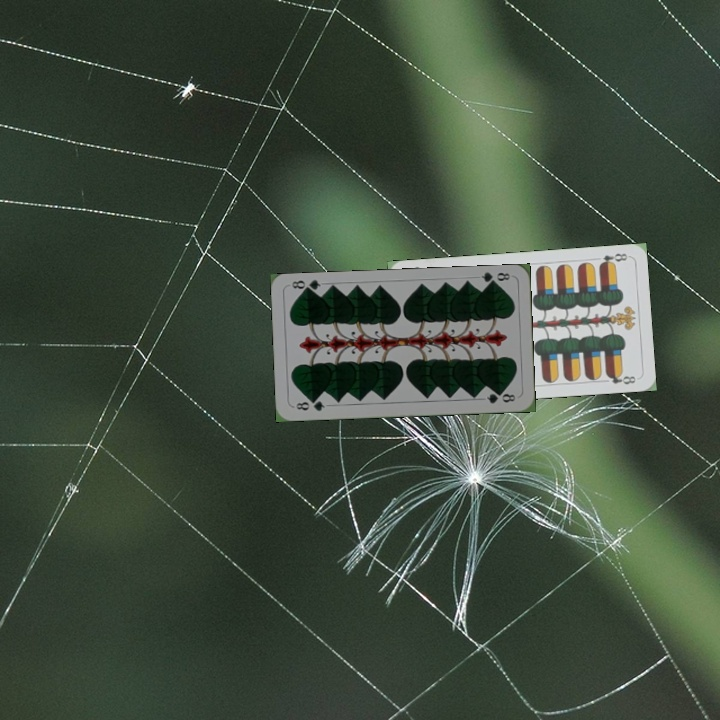E8: (595, 249, 630, 269)
G8: (477, 268, 512, 288), (292, 396, 327, 414)
